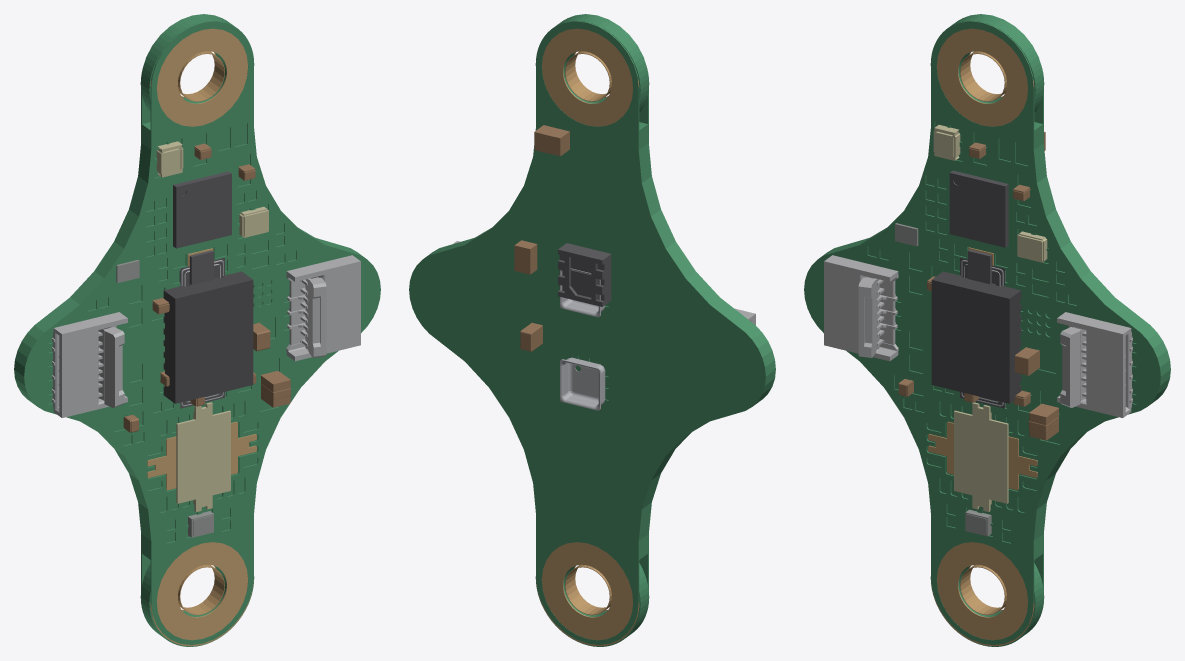
Rendered from assembly.glb.
3 renders of one model, left to right at view 1: azimuth 30°, elevation 25°; view 2: azimuth 150°, elevation 25°; view 3: azimuth 330°, elevation 25°, orthographic.
Visible parts, largest first — view 1: board, ic_shield, copper, ic_mcu, xtal_led, ic_other, passives, pads, mechanics, ic_ldo; view 2: board, copper, ic_ldo, ic_mems, passives, pads; view 3: board, ic_shield, copper, ic_mcu, xtal_led, ic_other, passives, pads, mechanics, ic_ldo.
Part boxes in pixels (x1,y1,x2,y2): board: (14, 14, 380, 646); ic_shield: (52, 255, 360, 417); copper: (147, 28, 256, 646); ic_mcu: (163, 271, 253, 403); xtal_led: (156, 141, 268, 511); ic_other: (173, 171, 231, 408); passives: (123, 143, 290, 432); pads: (178, 51, 224, 615); mechanics: (116, 260, 213, 537); ic_ldo: (189, 250, 213, 284); board: (409, 14, 775, 646); copper: (536, 28, 639, 646); ic_ldo: (558, 243, 611, 306); ic_mems: (560, 268, 605, 410); passives: (514, 125, 569, 351); pads: (565, 51, 611, 615); board: (804, 14, 1170, 646); ic_shield: (824, 255, 1132, 417); copper: (928, 28, 1037, 646); ic_mcu: (931, 271, 1021, 403); xtal_led: (933, 125, 1047, 511); ic_other: (949, 170, 1008, 408); passives: (898, 131, 1058, 440); pads: (960, 51, 1006, 615); mechanics: (895, 223, 991, 536); ic_ldo: (967, 249, 991, 284).
Bounding box in the file's own units: 0.016 × 0.0267 × 0.0031.
